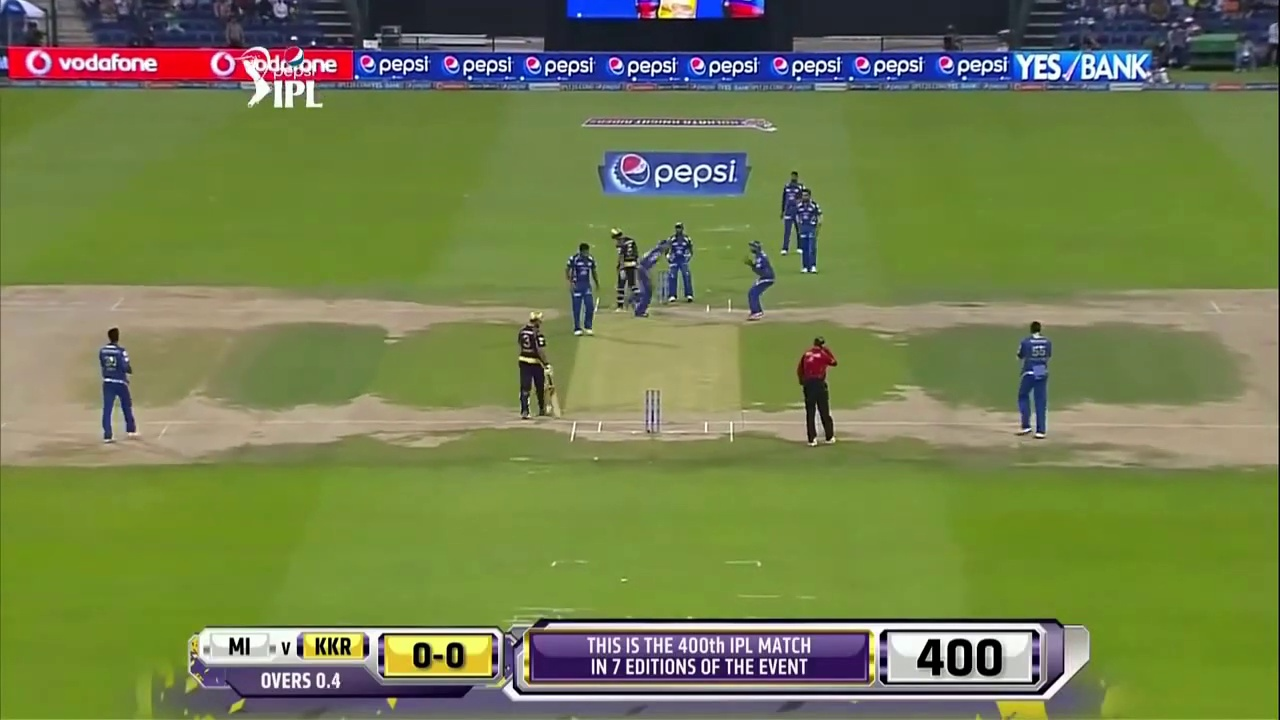bat: (549, 378, 563, 421)
stumps: (644, 386, 663, 435)
